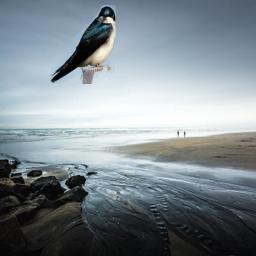Swallow: (50, 5, 116, 84)
